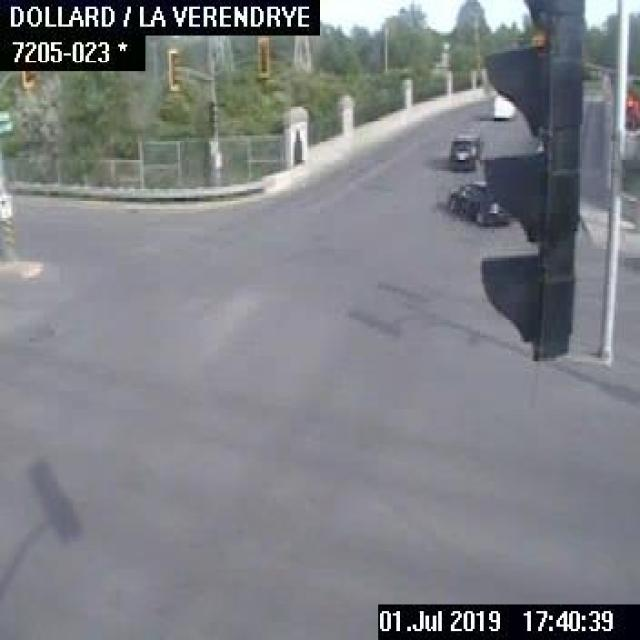vehicle: (447, 178, 511, 229), (445, 131, 482, 169), (489, 89, 516, 120)
